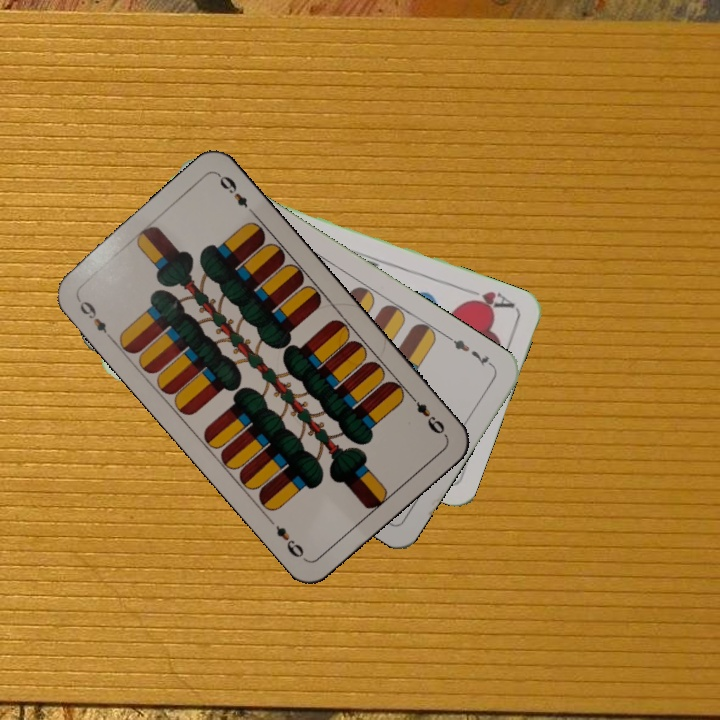E7: (444, 332, 497, 370)
E9: (405, 390, 449, 439), (73, 294, 116, 342)
HA: (460, 284, 518, 314)
